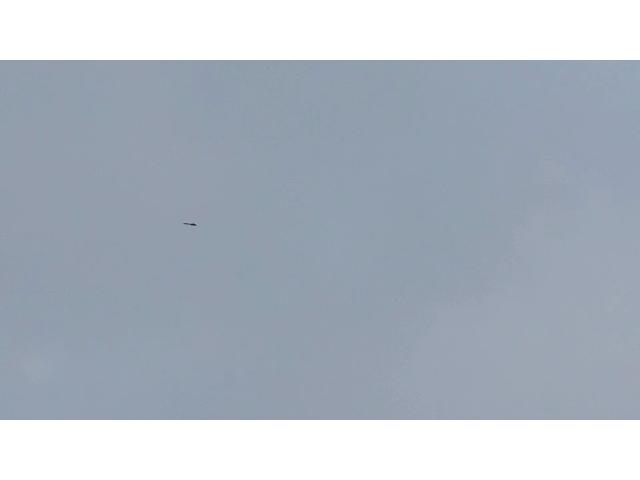Anti-Drone: (184, 221, 198, 229)
